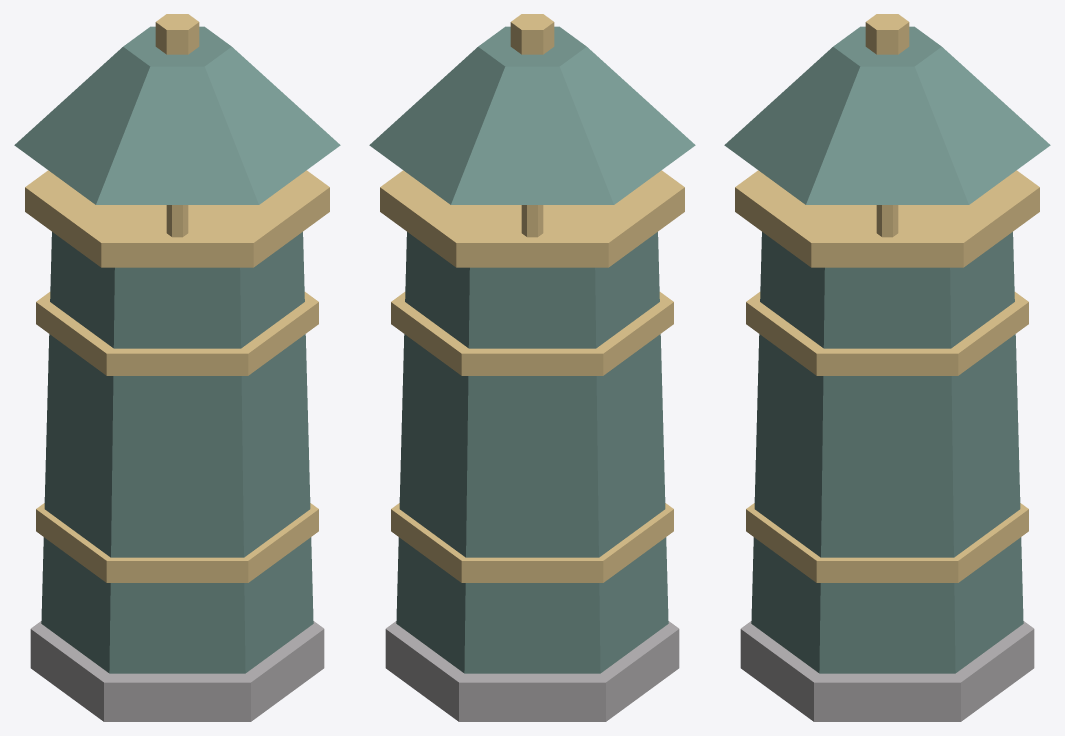
File: Prop_Bin_A.fbx
The picture shows the model from 3 angles, left to right: view 1: azimuth 30°, elevation 25°; view 2: azimuth 150°, elevation 25°; view 3: azimuth 270°, elevation 25°; orthographic projection.
Visible parts, largest first — view 1: Prop_Bin_A; view 2: Prop_Bin_A; view 3: Prop_Bin_A.
Part boxes in pixels (x1=…): Prop_Bin_A: x1=14, y1=14, x2=340, y2=721; Prop_Bin_A: x1=369, y1=14, x2=695, y2=721; Prop_Bin_A: x1=724, y1=14, x2=1050, y2=721.
Bounding box in the file's own units: 0.5196 × 1.31 × 0.6.
